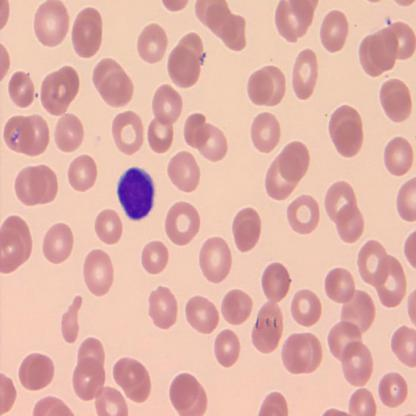Lymphocyte: (116, 165, 156, 221)
